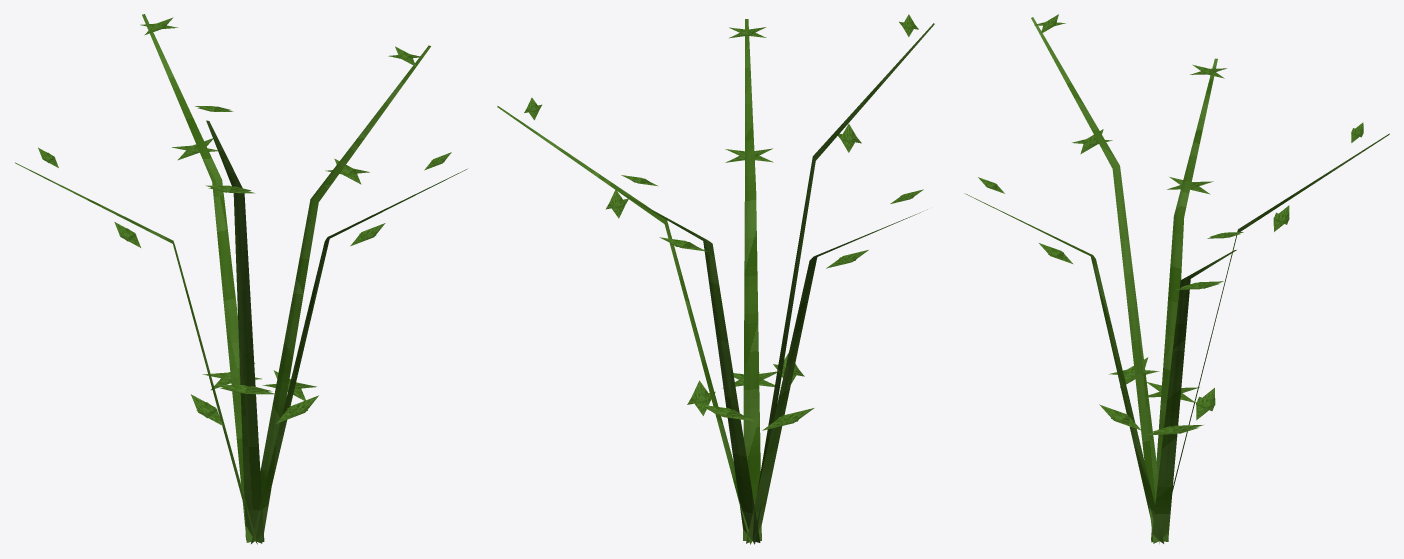
The model's file is fern01-lod1.glb.
The picture shows the model from 3 angles, left to right: view 1: azimuth 30°, elevation 25°; view 2: azimuth 150°, elevation 25°; view 3: azimuth 270°, elevation 25°; orthographic projection. The views are drawn at different scales.
Parts seen in each view (by area): view 1: TZ_ground_plant_Batch_00_LOD1; view 2: TZ_ground_plant_Batch_00_LOD1; view 3: TZ_ground_plant_Batch_00_LOD1.
Part boxes in pixels (box(x1,y1,x2,y2)): TZ_ground_plant_Batch_00_LOD1: box(15, 14, 466, 544); TZ_ground_plant_Batch_00_LOD1: box(497, 14, 934, 544); TZ_ground_plant_Batch_00_LOD1: box(964, 14, 1389, 543).
Bounding box in the file's own units: 0.6402 × 0.72 × 0.5864.
1 material, 1 textured.
